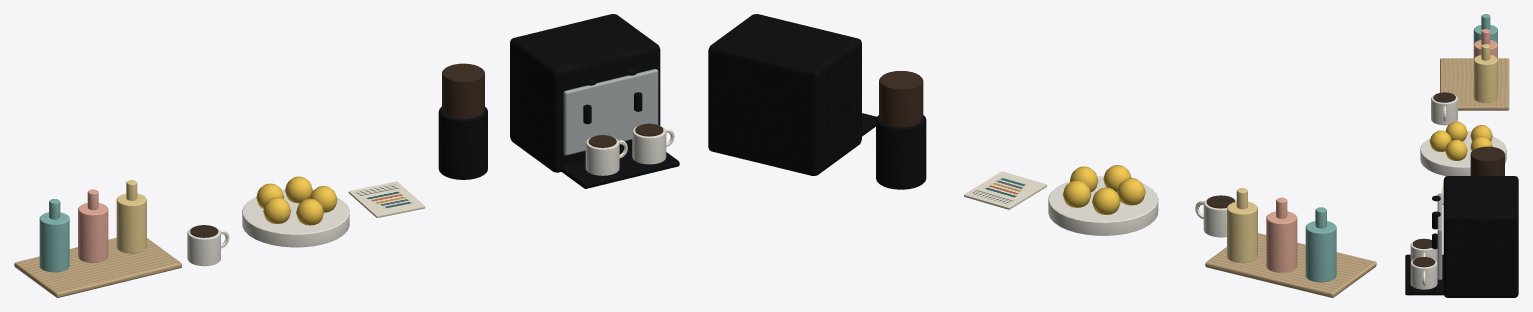
File: pantry-counter-dressed-v1.glb
3 renders of one model, left to right at view 1: azimuth 30°, elevation 25°; view 2: azimuth 150°, elevation 25°; view 3: azimuth 270°, elevation 25°, orthographic. The views are drawn at different scales.
Visible parts, largest first — view 1: Espresso machine body; view 2: Espresso machine body; view 3: Espresso machine body.
Boxes of the visible parts, x1,y1,x2,y2 form: Espresso machine body: (14, 14, 679, 297); Espresso machine body: (708, 14, 1376, 297); Espresso machine body: (1405, 14, 1518, 297).
Bounding box in the file's own units: 2.99 × 0.49 × 0.605.
Materials: 11 (4 with a texture image).
